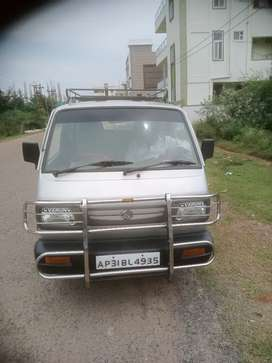AP318L4935: (95, 251, 159, 270)
